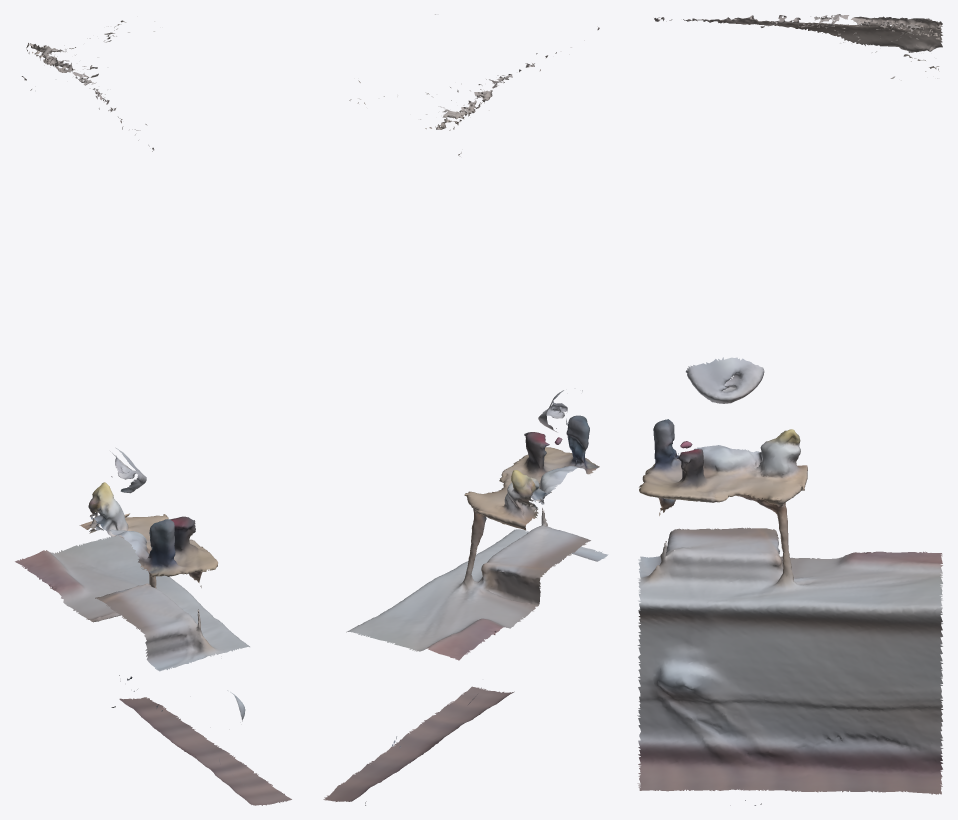
File: apartment-full-8-6cb8b0f4a9d1.glb
3 renders of one model, left to right at view 1: azimuth 30°, elevation 25°; view 2: azimuth 150°, elevation 25°; view 3: azimuth 270°, elevation 25°, orthographic. The views are drawn at different scales.
Size of the model in its own units: 0.5 by 2.49 by 0.947.
